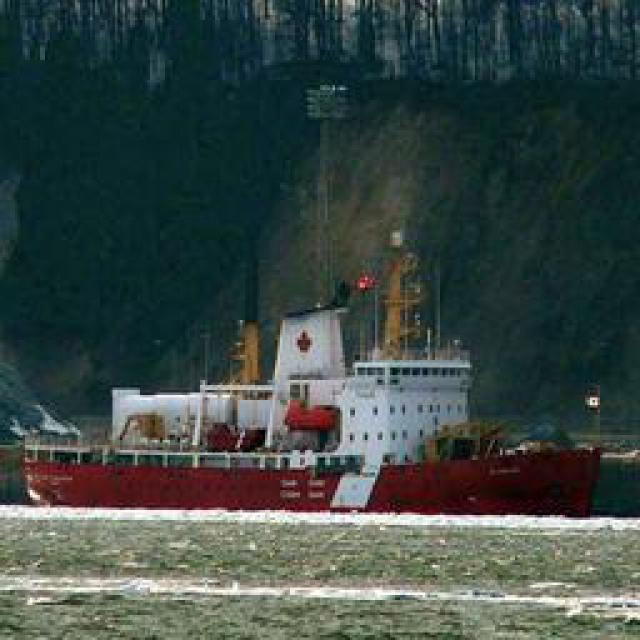Ship: (35, 445, 623, 515)
